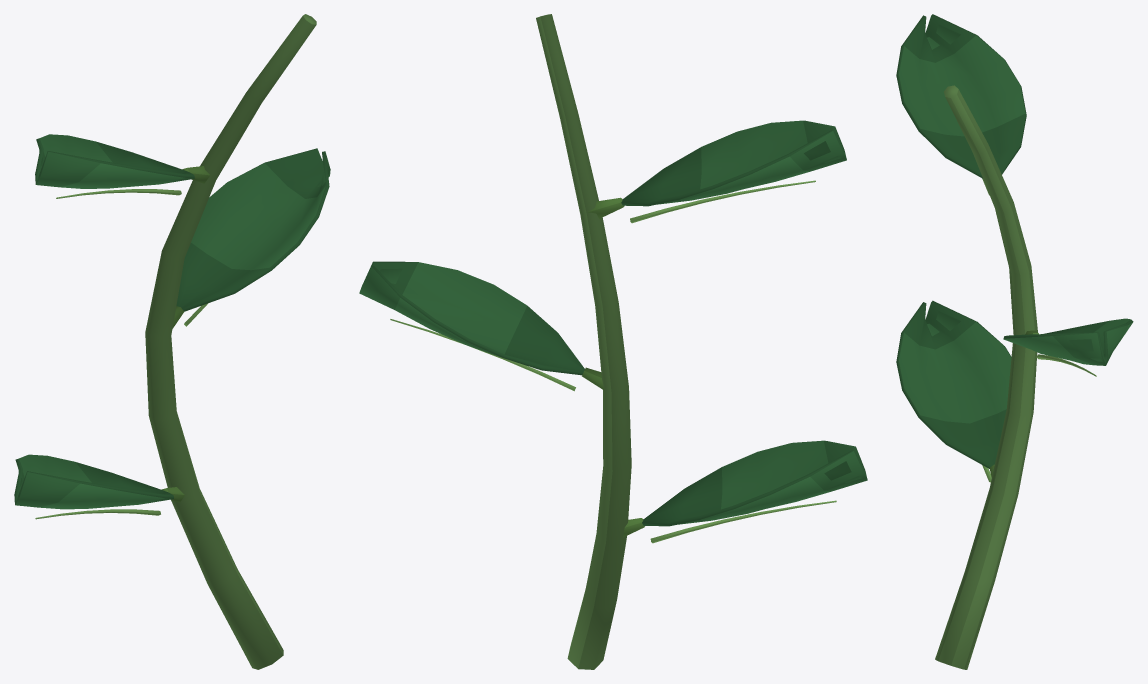
File: garden-geranium-bloom-stem-1.glb
3 renders of one model, left to right at view 1: azimuth 30°, elevation 25°; view 2: azimuth 150°, elevation 25°; view 3: azimuth 270°, elevation 25°, orthographic. The views are drawn at different scales.
Visible parts, largest first — view 1: geranium-bloom-stem-1; view 2: geranium-bloom-stem-1; view 3: geranium-bloom-stem-1.
Part boxes in pixels (x1,y1,x2,y2): geranium-bloom-stem-1: (14,14,330,669); geranium-bloom-stem-1: (359,14,867,669); geranium-bloom-stem-1: (896,14,1133,669).
Bounding box in the file's own units: 0.1791 × 0.2668 × 0.0952.
